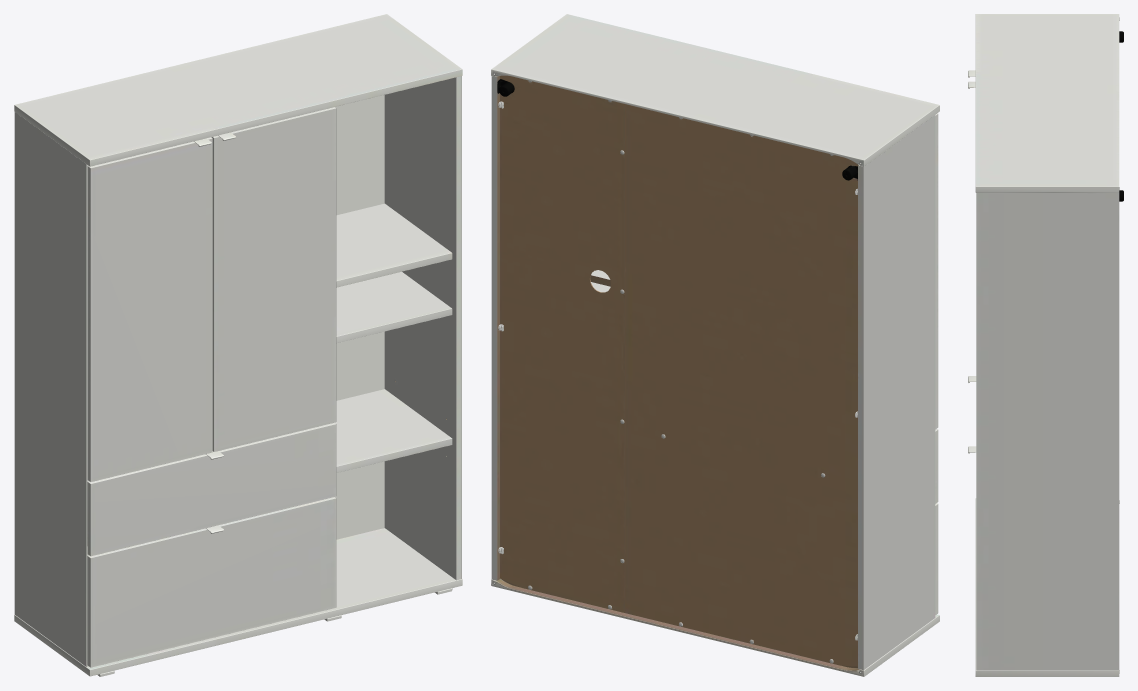
The model's file is 11 - VIHALS - 收納櫃, 白色, 105x37x140 公分 IKEA 線上購物.glb.
The picture shows the model from 3 angles, left to right: view 1: azimuth 30°, elevation 25°; view 2: azimuth 150°, elevation 25°; view 3: azimuth 270°, elevation 25°; orthographic projection. The views are drawn at different scales.
Visible parts, largest first — view 1: Mesh_0; view 2: Mesh_0; view 3: Mesh_0.
Part boxes in pixels (bbox=[...]): Mesh_0: bbox=[14, 14, 462, 676]; Mesh_0: bbox=[491, 14, 939, 676]; Mesh_0: bbox=[968, 14, 1123, 676].
Size of the model in its own units: 1.05 by 1.4 by 0.4011.
1 material, 1 textured.
